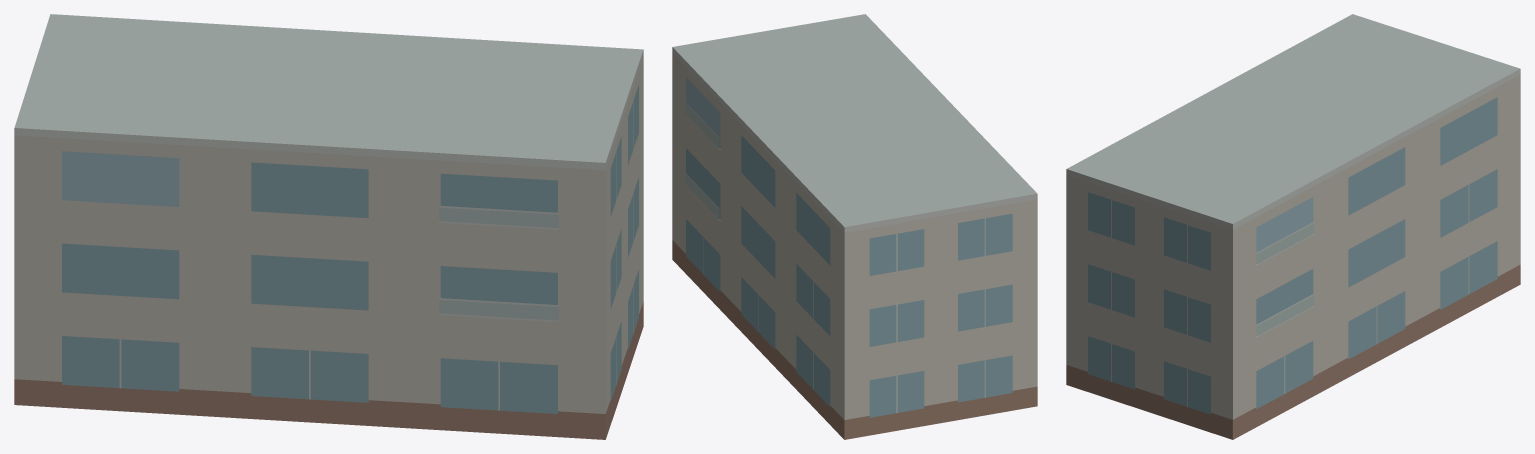
Rendered from survey-upis-32927356.glb.
3 views of the same model, side by side, from view 1: azimuth 30°, elevation 25°; view 2: azimuth 150°, elevation 25°; view 3: azimuth 270°, elevation 25° (orthographic). The views are drawn at different scales.
Visible parts, largest first — view 1: survey-upis-32927356.tmp; view 2: survey-upis-32927356.tmp; view 3: survey-upis-32927356.tmp.
Boxes of the visible parts, <box> form: survey-upis-32927356.tmp: <box>14,14,643,439</box>; survey-upis-32927356.tmp: <box>672,14,1037,439</box>; survey-upis-32927356.tmp: <box>1066,14,1520,439</box>.
Bounding box in the file's own units: 19.1 × 9.15 × 17.45.
